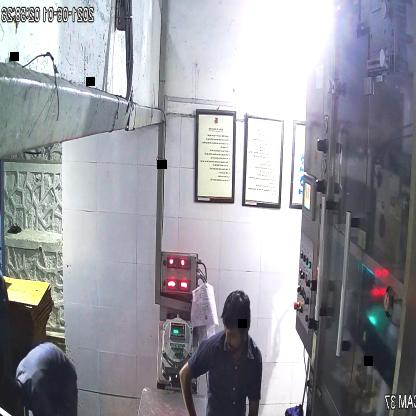no_goggles: (222, 320, 254, 344)
